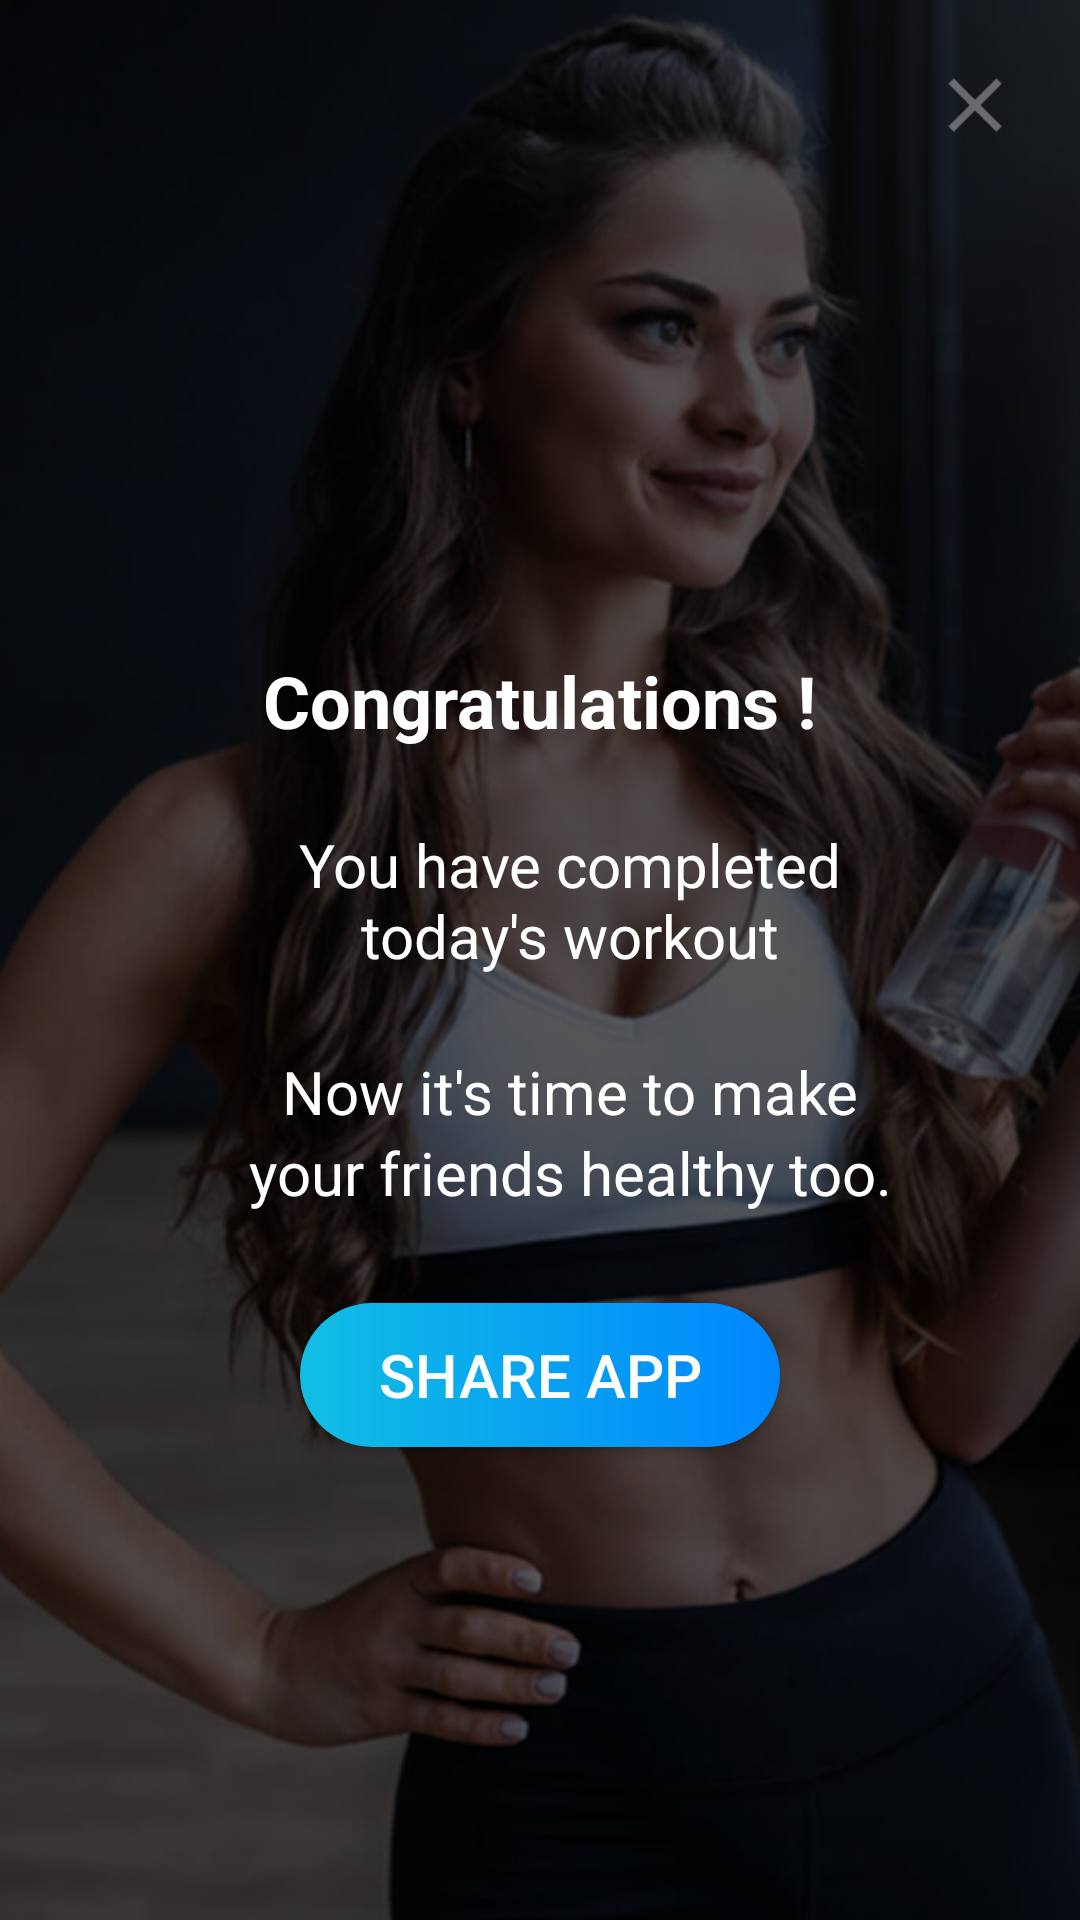

Where to tap for icons on this 1080x1920 app screen, as (x,y):
share close: (975,105)
